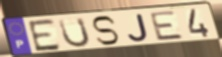4: (188, 8, 211, 39)
E: (26, 18, 63, 54), (148, 10, 186, 42)
J: (126, 12, 150, 43)
S: (90, 15, 121, 46)
U: (57, 16, 92, 49)
